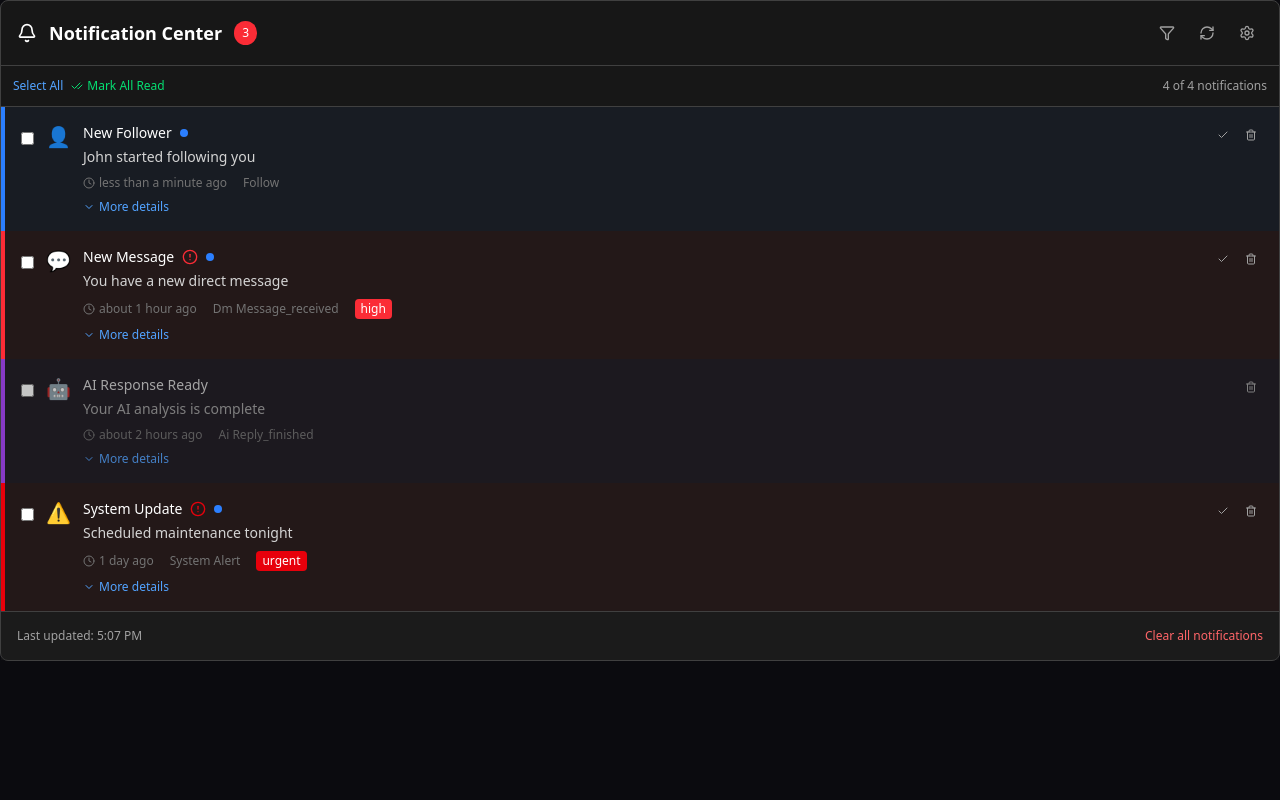
Test: NotificationCenter › Filters › should filter by type
# Open filters
Click the button titled "Toggle filters" at (1167, 33), box [1151, 17, 1183, 49]
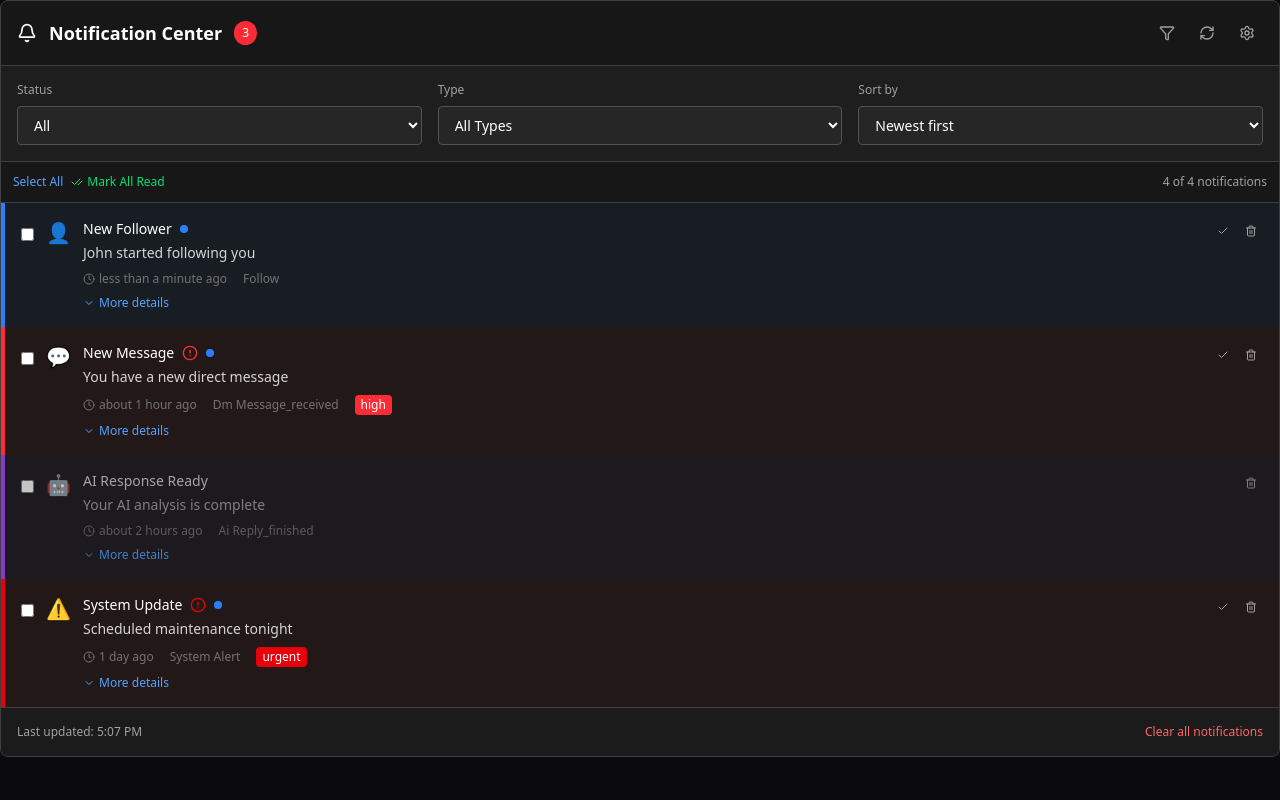
# Change type filter to follow
Select "Follows" in the dropdown showing "All Types" below "Type" at (640, 126), box [438, 106, 842, 145]
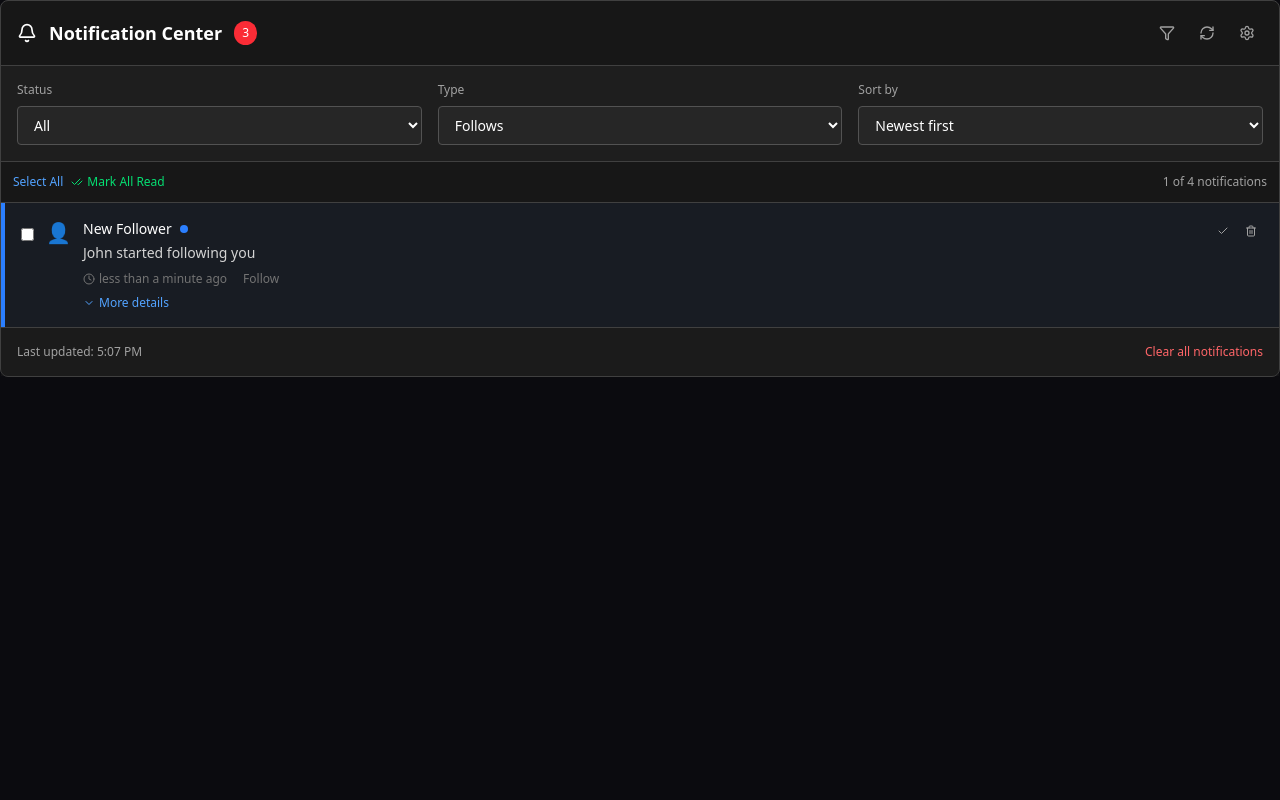
Check: the heading "New Follower" is shown, box [83, 219, 172, 239]
Check: the heading "New Message" is gone
